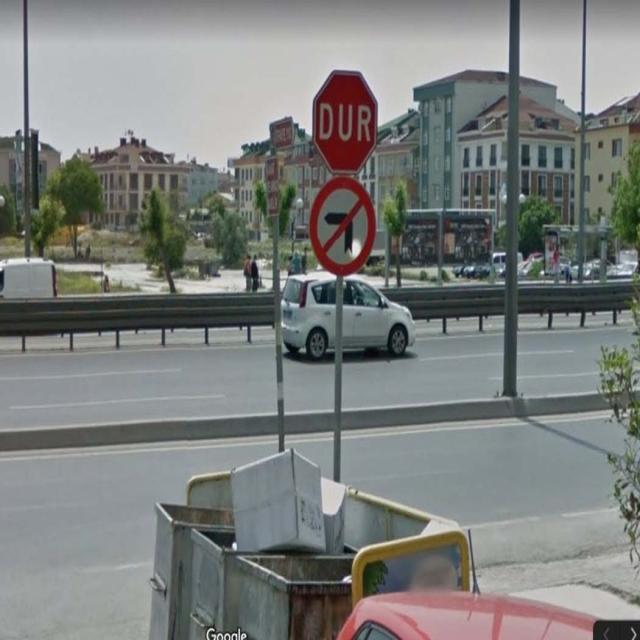dur: (312, 70, 378, 174)
soladonulmez: (309, 175, 376, 274)
